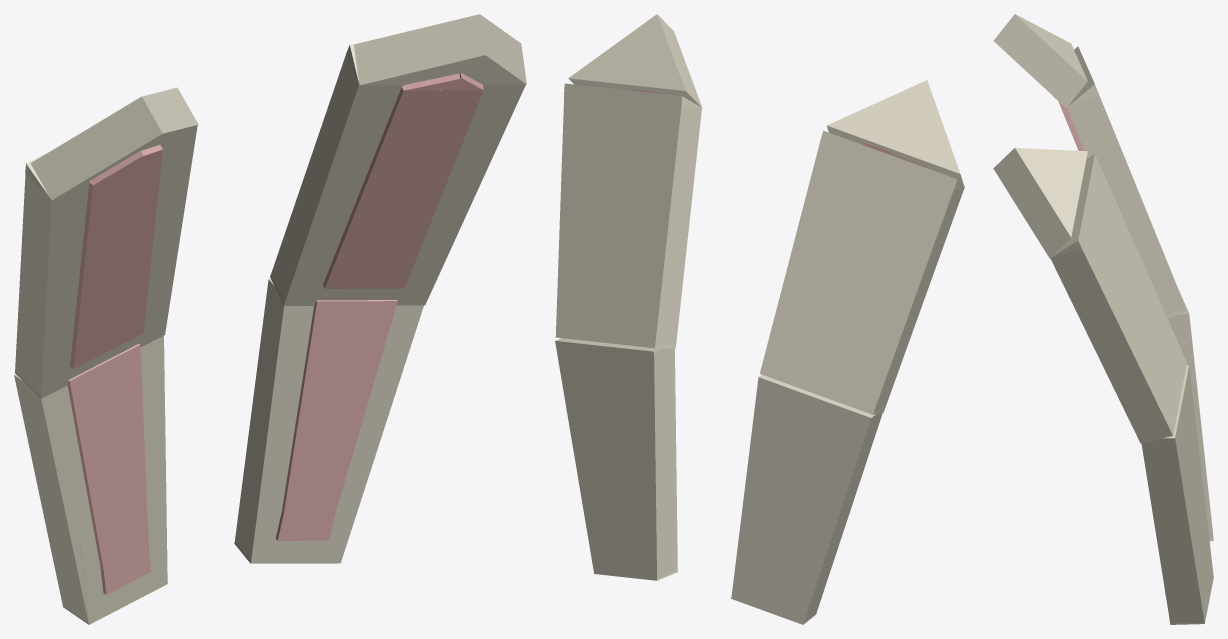
File: Bunny Ears.fbx
3 renders of one model, left to right at view 1: azimuth 30°, elevation 25°; view 2: azimuth 150°, elevation 25°; view 3: azimuth 270°, elevation 25°, orthographic. The views are drawn at different scales.
Parts seen in each view (by area): view 1: Bunny Ears; view 2: Bunny Ears; view 3: Bunny Ears.
Boxes of the visible parts, x1=… form: Bunny Ears: x1=14, y1=14, x2=526, y2=624; Bunny Ears: x1=555, y1=14, x2=964, y2=624; Bunny Ears: x1=993, y1=14, x2=1213, y2=624.
Size of the model in its own units: 198 by 235 by 95.2.
